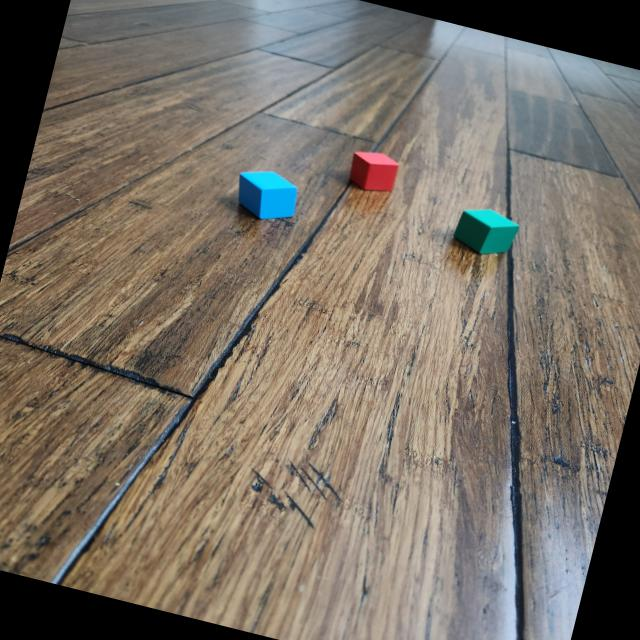bluecube: (230, 163, 302, 226)
green cube: (451, 201, 520, 261)
red cube: (344, 146, 402, 195)
